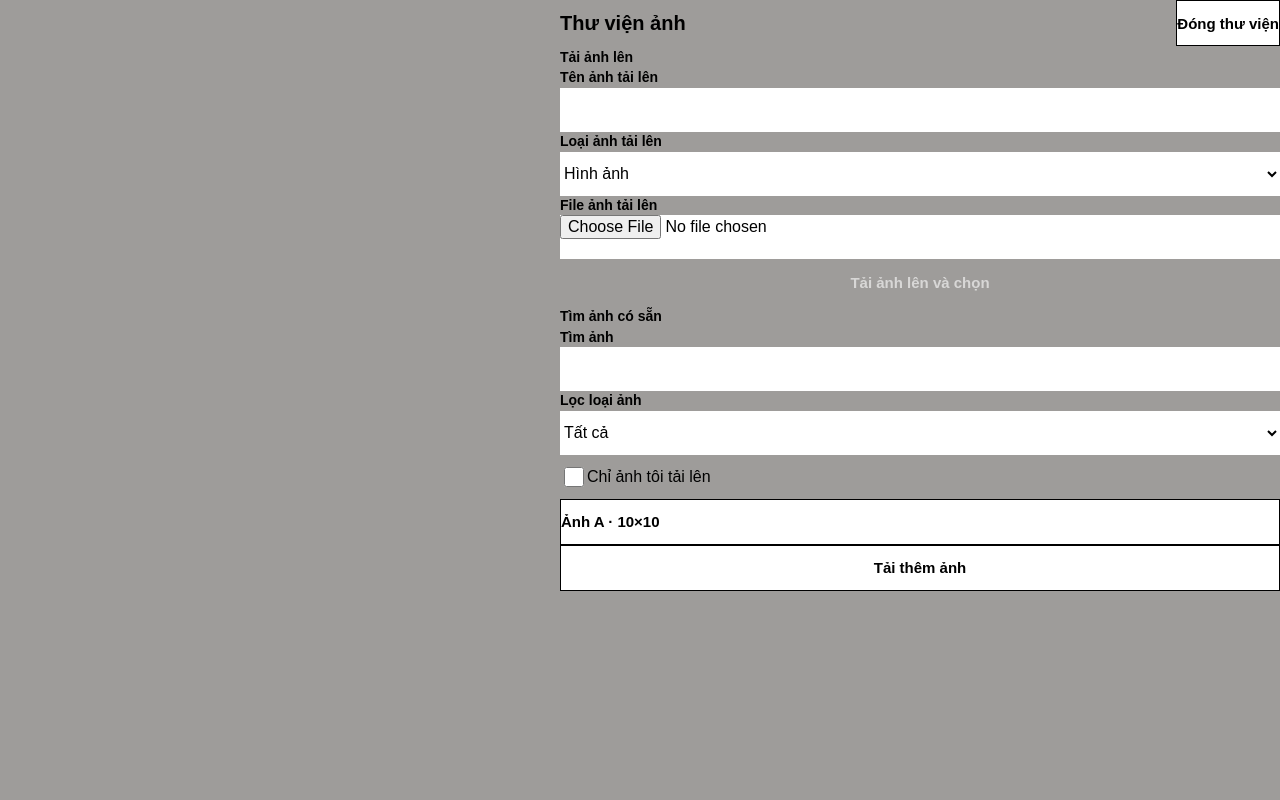
Test: template asset library › keeps loaded assets when a later page fails and lets the Admin retry
Expected: the button with aria-label "Chọn Ảnh A" is shown, [560,499,1279,545]
Click the button "Tải thêm ảnh".
click(920, 568)  # box [560,545,1279,591]
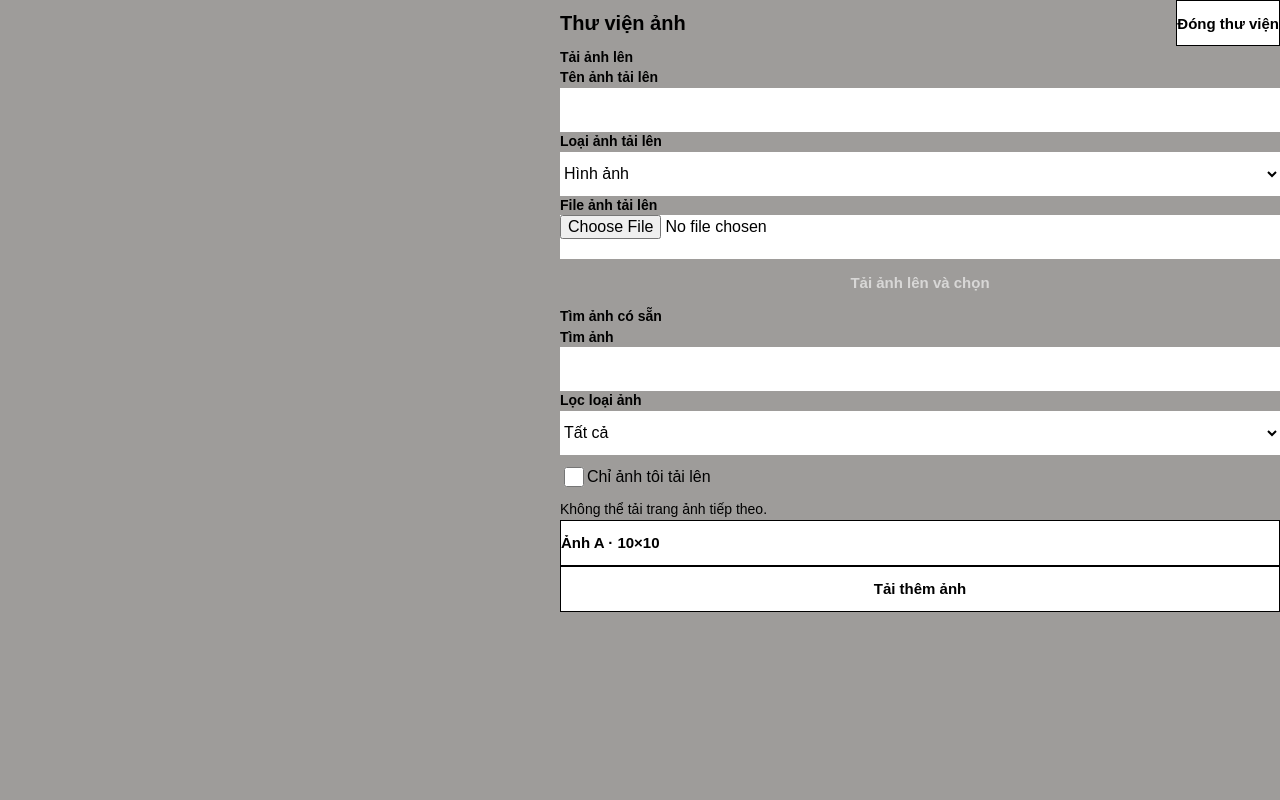
Expected: the button with aria-label "Chọn Ảnh A" is shown, [560,520,1279,566]
Now the message reads "Không thể tải trang ảnh tiếp theo.", box [560,501,767,517]
Click the button "Tải thêm ảnh".
click(920, 589)  # box [560,566,1279,612]
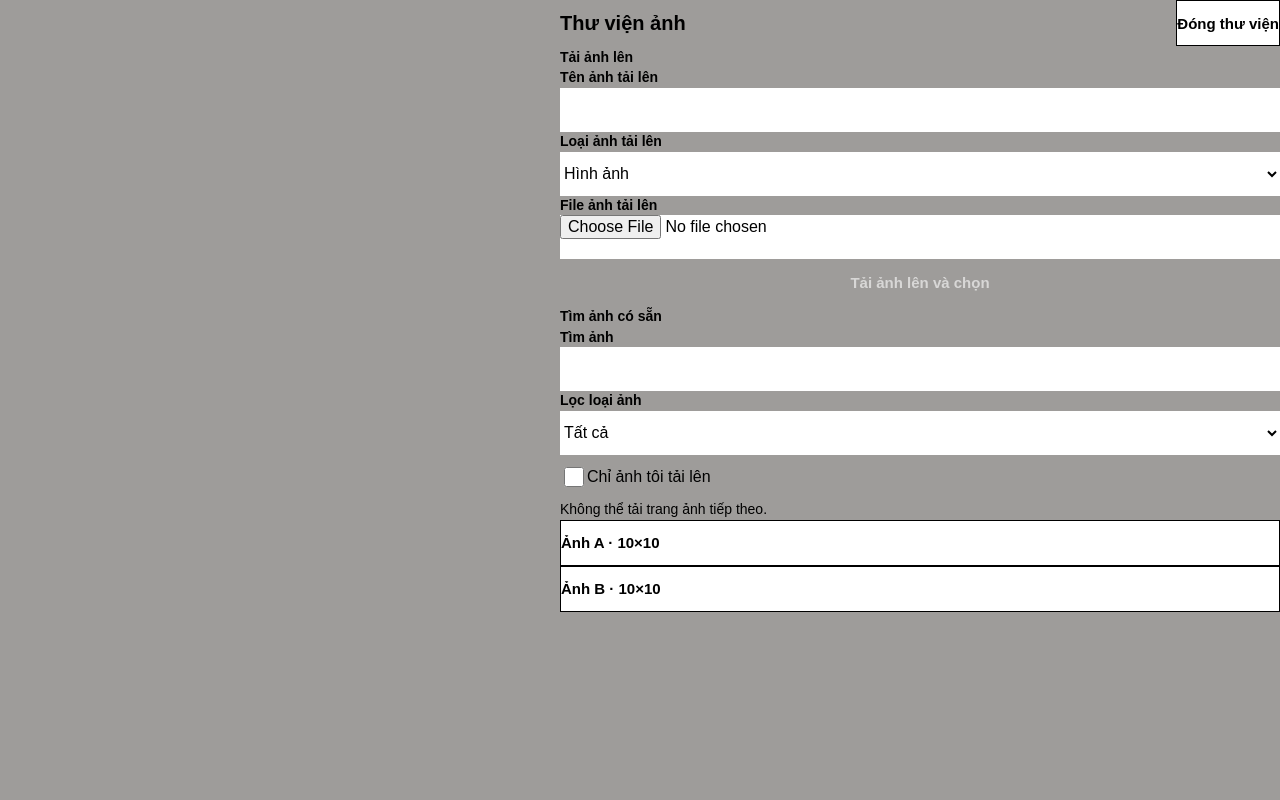
Expected: the button with aria-label "Chọn Ảnh A" is shown, [560,520,1279,566]
Now the button with aria-label "Chọn Ảnh B" is shown, box [560,566,1279,612]
